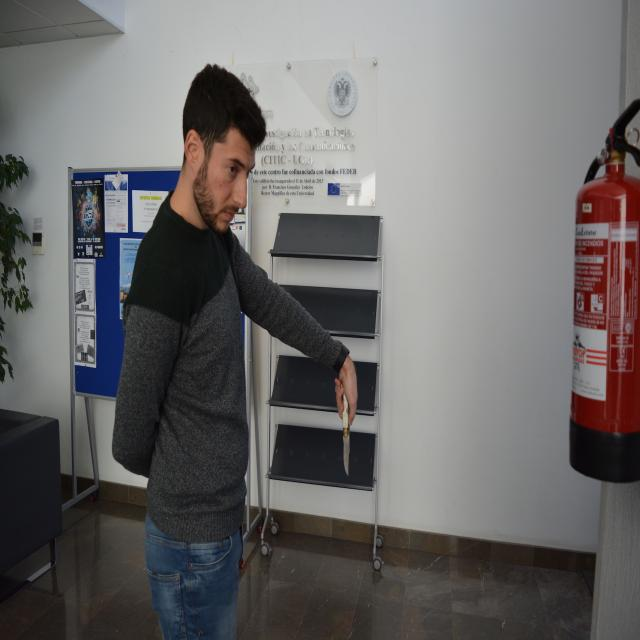knife: (342, 395, 356, 479)
